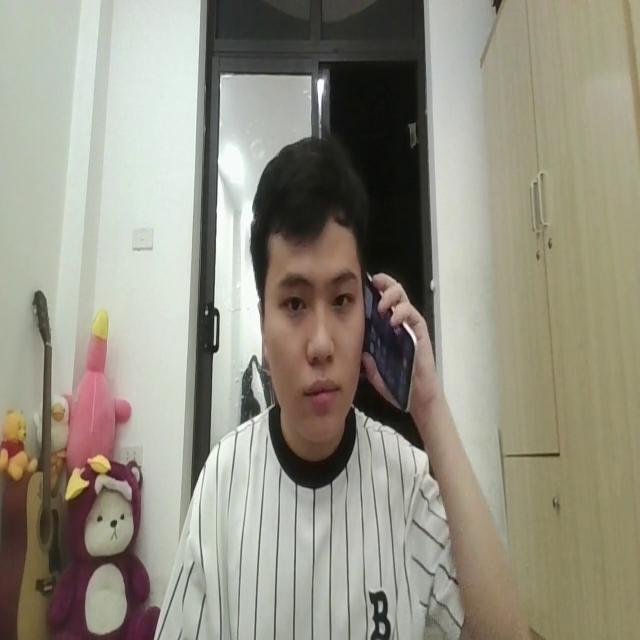phone: (358, 260, 418, 423)
student: (136, 135, 538, 640)
